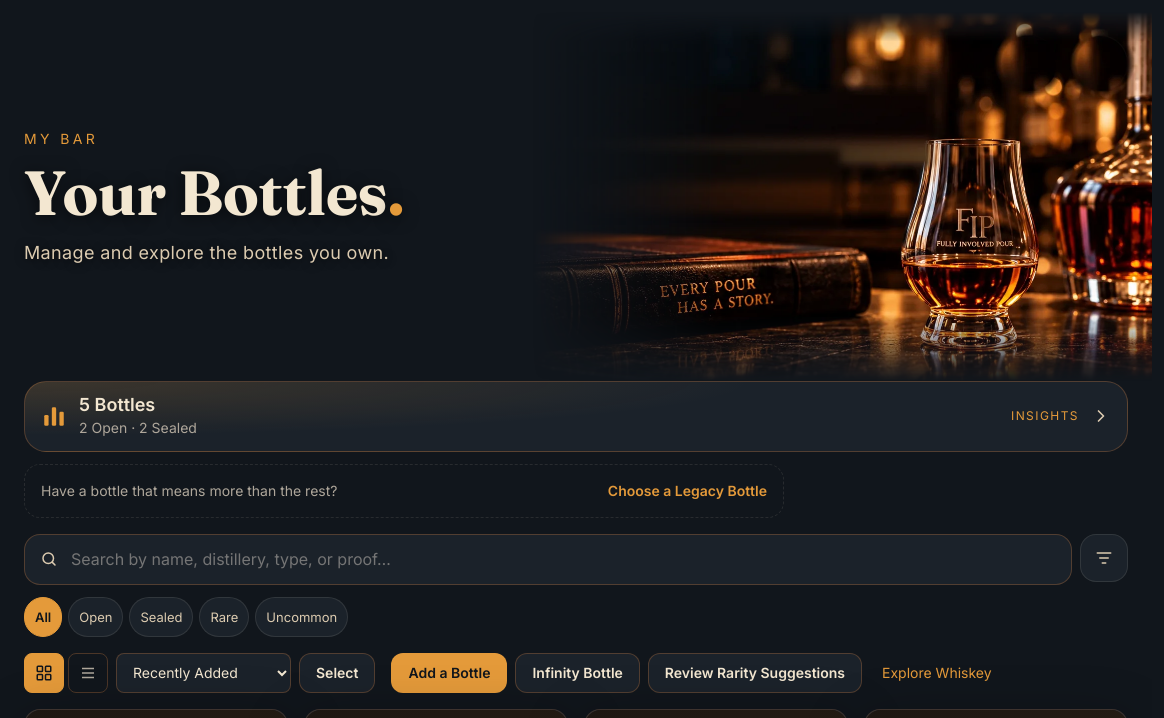
Scenario: CollectionPage — rarity chart and filter › the chart total excludes wishlist bottles (Pappy 15) even though it has a confirmed rarity
Click the button with aria-label "Collection insights" at (125, 404), box [24,381,1128,452]
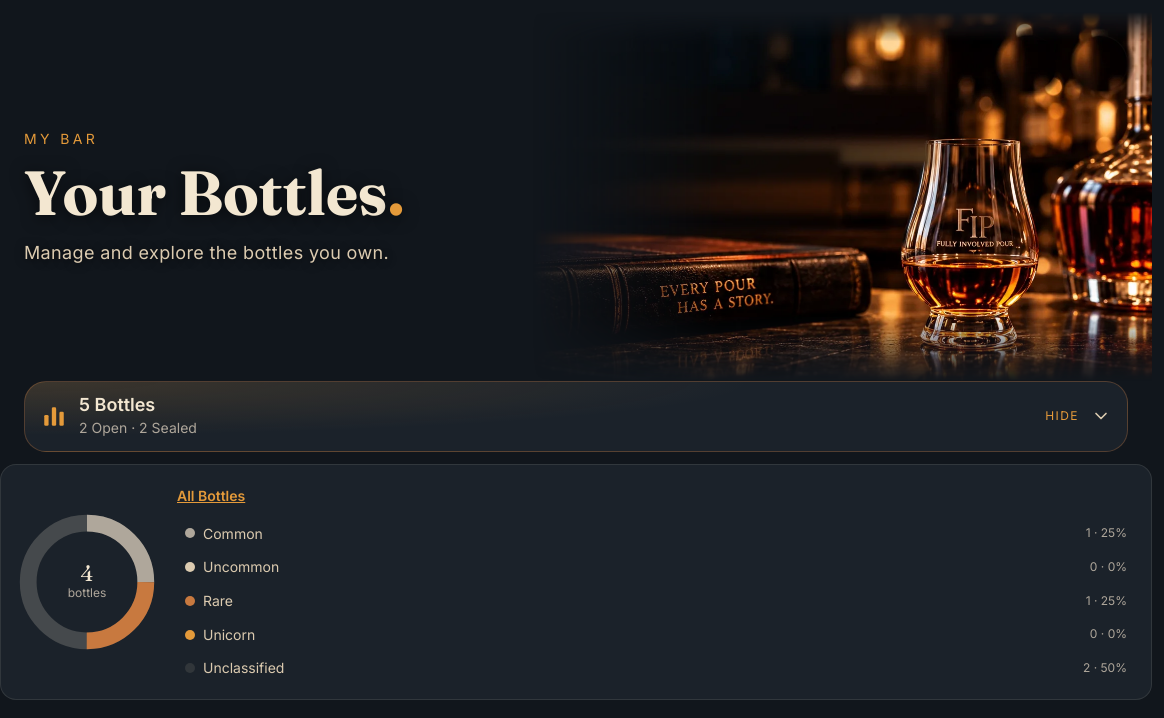
Now the text "4" is shown, box [80,562,94,584]
